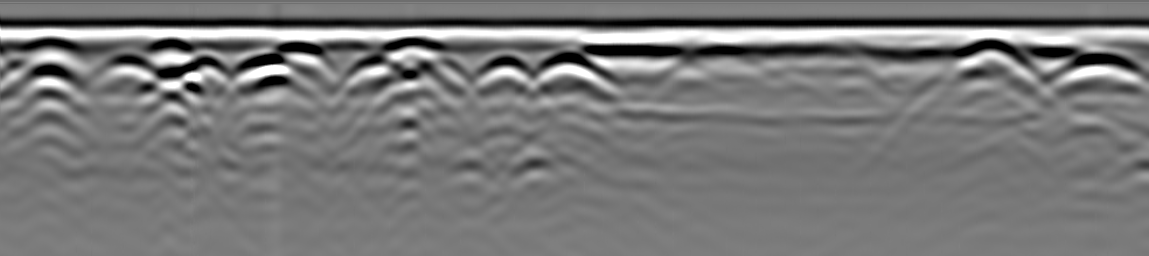pipe: (960, 37, 1029, 77), (22, 36, 79, 77), (387, 33, 451, 60), (273, 37, 329, 67), (142, 36, 199, 65)
steel: (1063, 56, 1145, 89), (539, 50, 608, 85), (235, 53, 293, 93), (476, 55, 535, 88), (347, 55, 402, 82), (180, 55, 230, 81), (104, 55, 149, 82)
